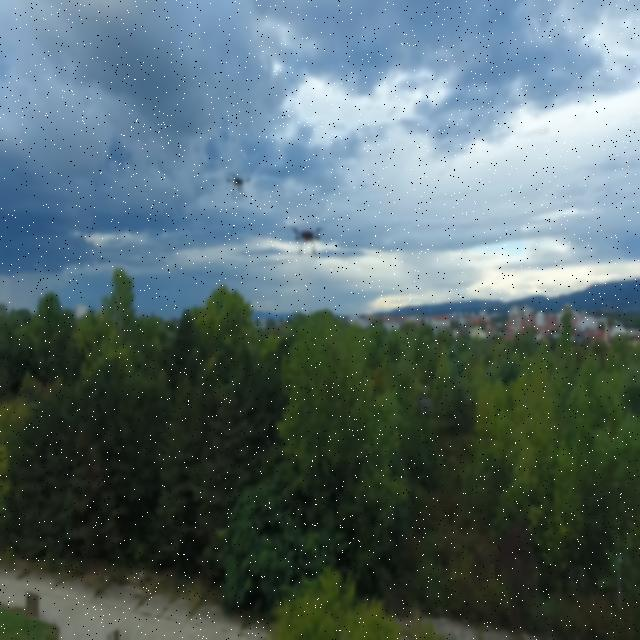UAV: (280, 221, 334, 258), (219, 163, 258, 204)
